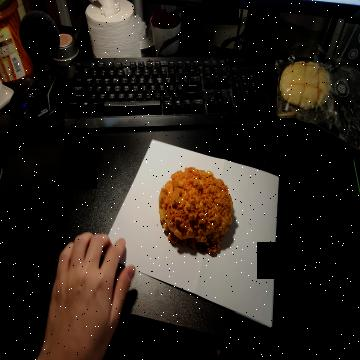soboru_bread: (156, 168, 235, 259)
